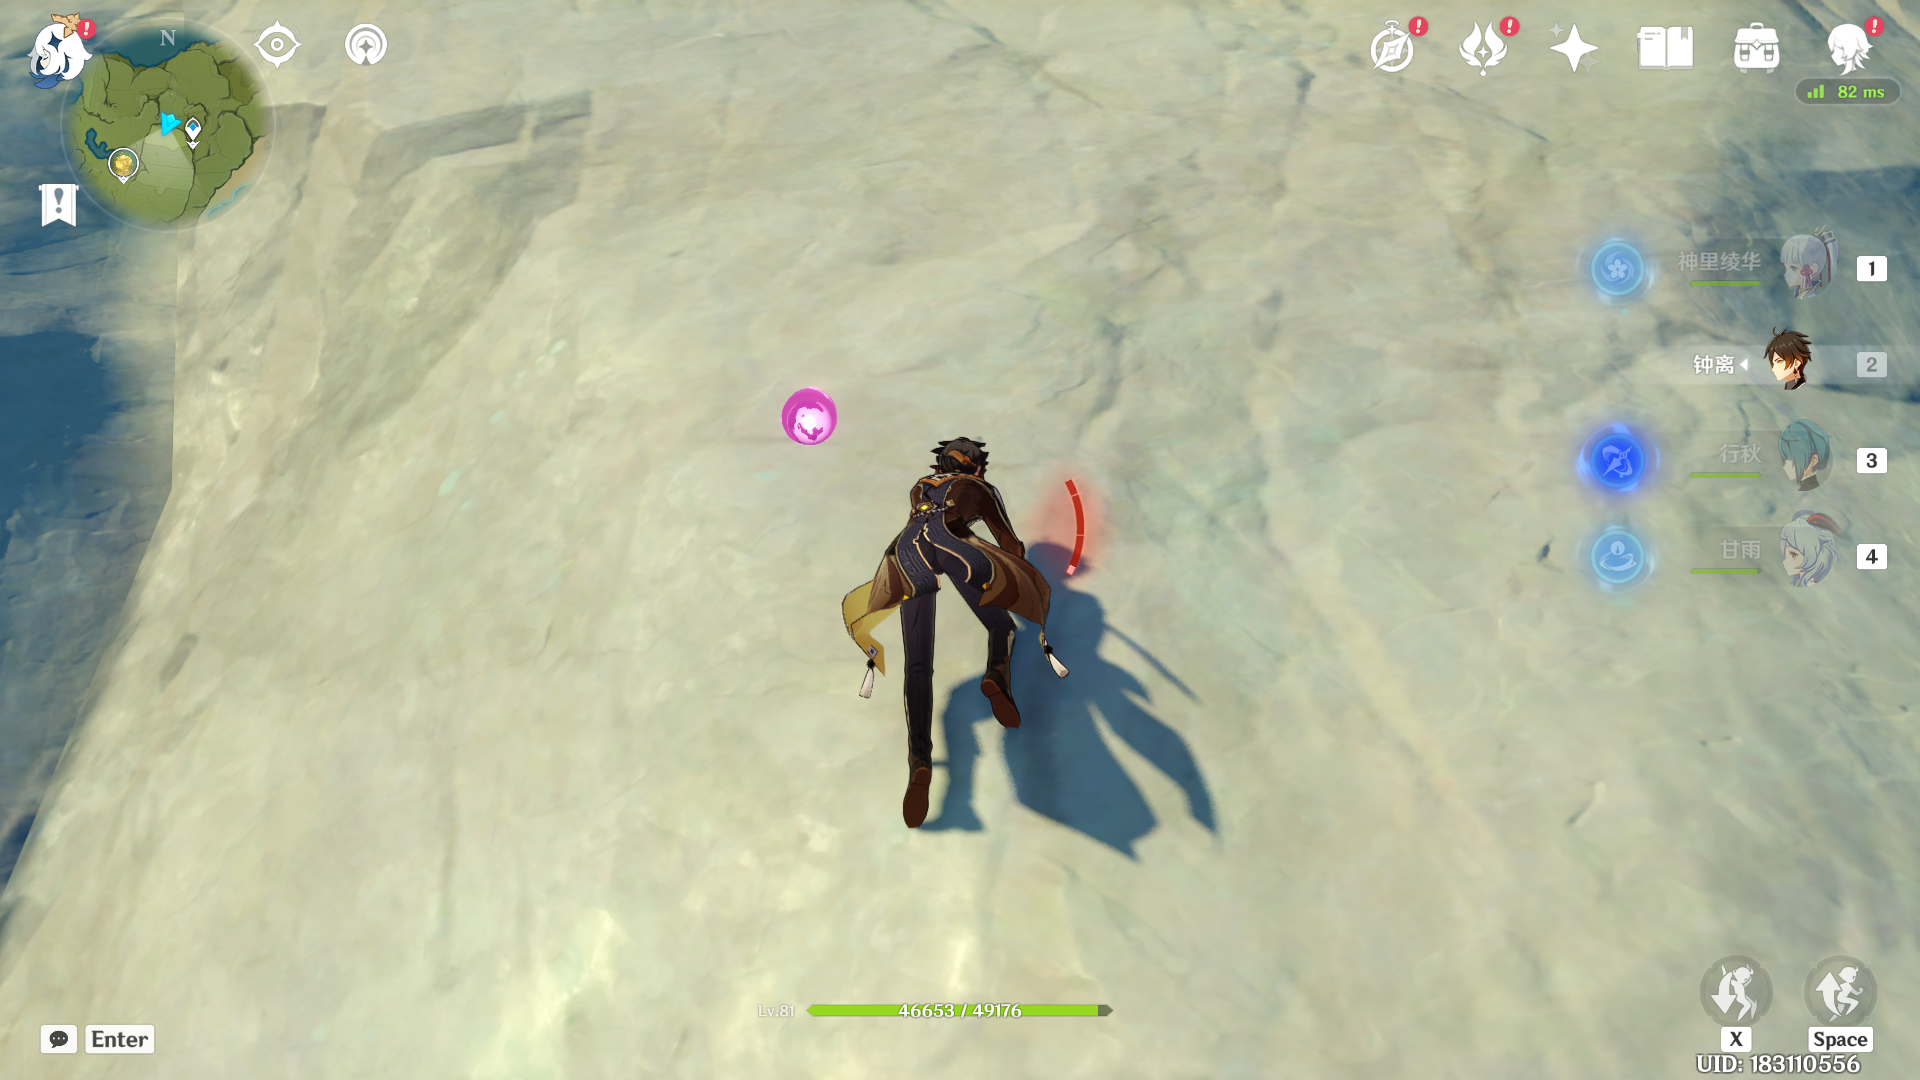character: (791, 411, 1133, 877)
